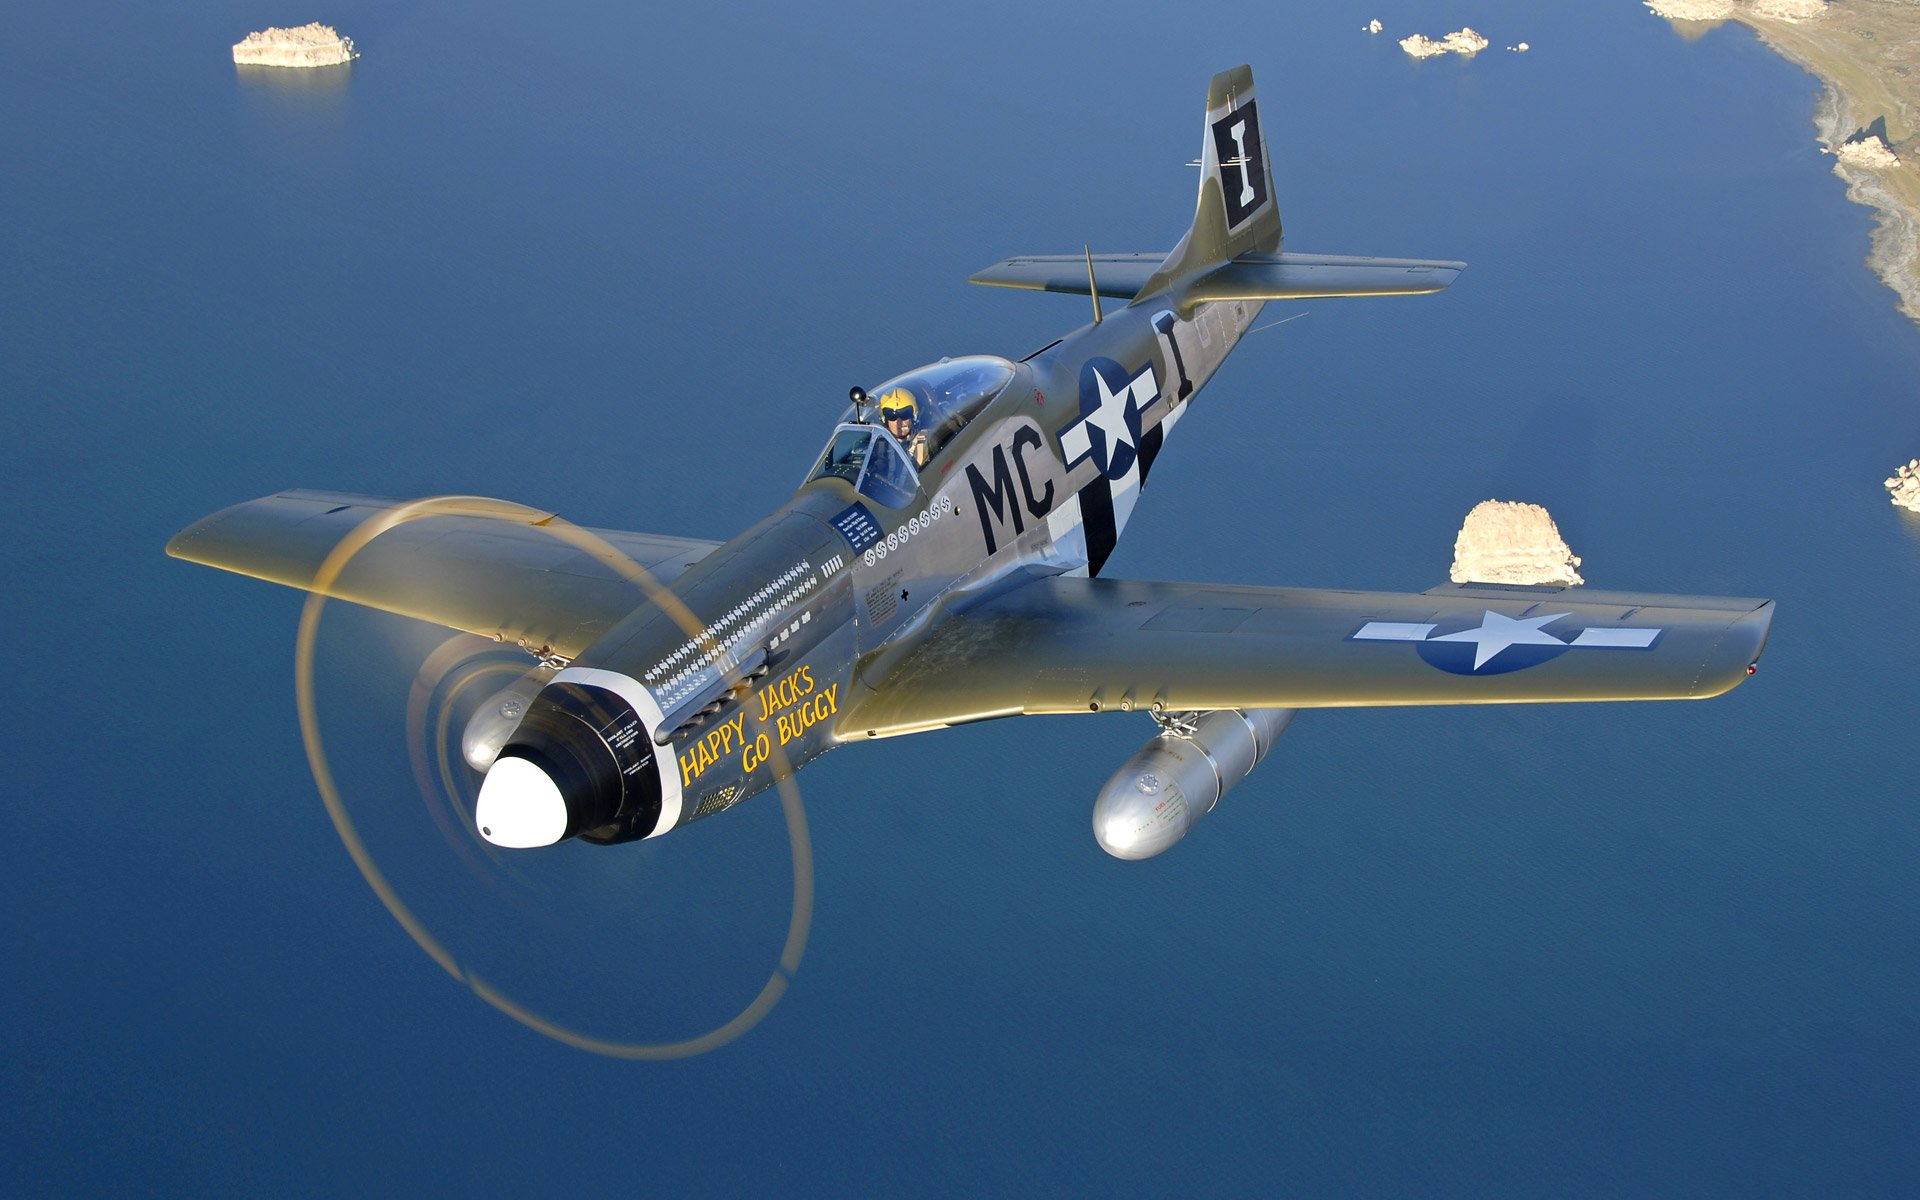Aeronef_militaire: (153, 50, 1801, 1074)
